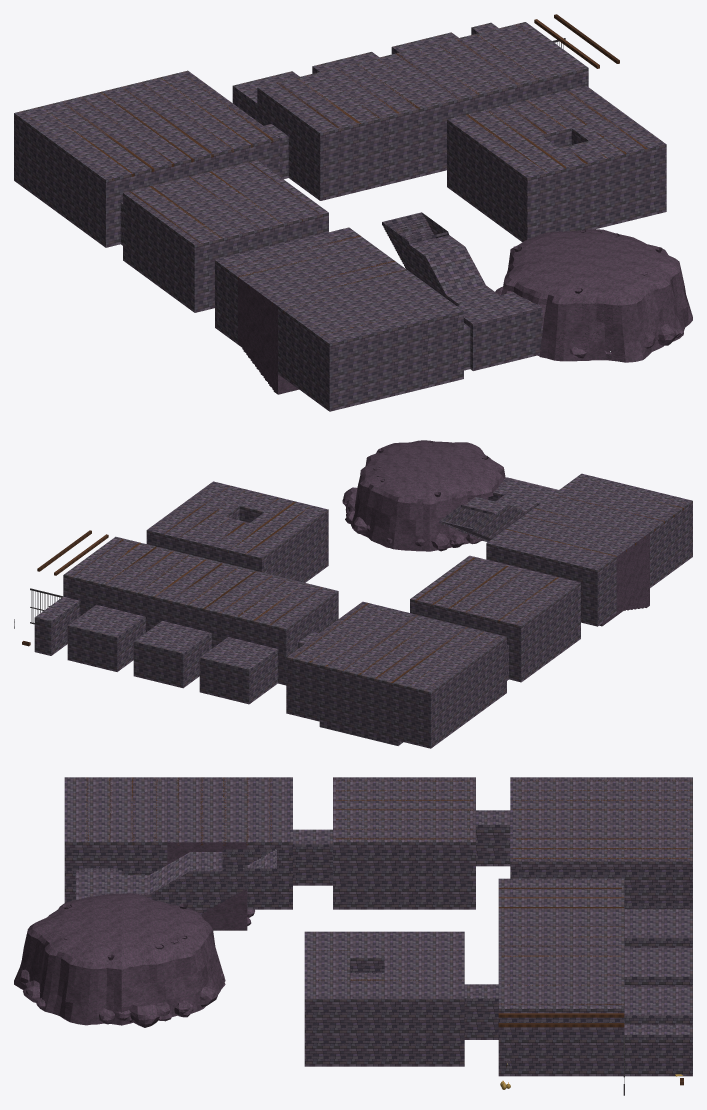
The model's file is citadel_dungeon.glb.
3 views of the same model, one above another, from view 1: azimuth 30°, elevation 25°; view 2: azimuth 150°, elevation 25°; view 3: azimuth 270°, elevation 25° (orthographic). The views are drawn at different scales.
Parts seen in each view (by area): view 1: dungeon_Dungeon_Stone, dungeon_Cave_Rock, dungeon_Old_Wood; view 2: dungeon_Dungeon_Stone, dungeon_Cave_Rock, dungeon_Old_Wood; view 3: dungeon_Dungeon_Stone, dungeon_Cave_Rock, dungeon_Old_Wood.
Part boxes in pixels (x1=…): dungeon_Dungeon_Stone: x1=14, y1=22, x2=666, y2=411; dungeon_Cave_Rock: x1=238, y1=229, x2=692, y2=394; dungeon_Old_Wood: x1=26, y1=14, x2=647, y2=335; dungeon_Dungeon_Stone: x1=34, y1=473, x2=692, y2=748; dungeon_Cave_Rock: x1=342, y1=440, x2=649, y2=626; dungeon_Old_Wood: x1=22, y1=481, x2=683, y2=693; dungeon_Dungeon_Stone: x1=64, y1=777, x2=692, y2=1076; dungeon_Cave_Rock: x1=14, y1=842, x2=254, y2=1027; dungeon_Old_Wood: x1=86, y1=777, x2=692, y2=1085.
Size of the model in its own units: 104 by 18 by 119.
Materials: 19 (8 with a texture image).
